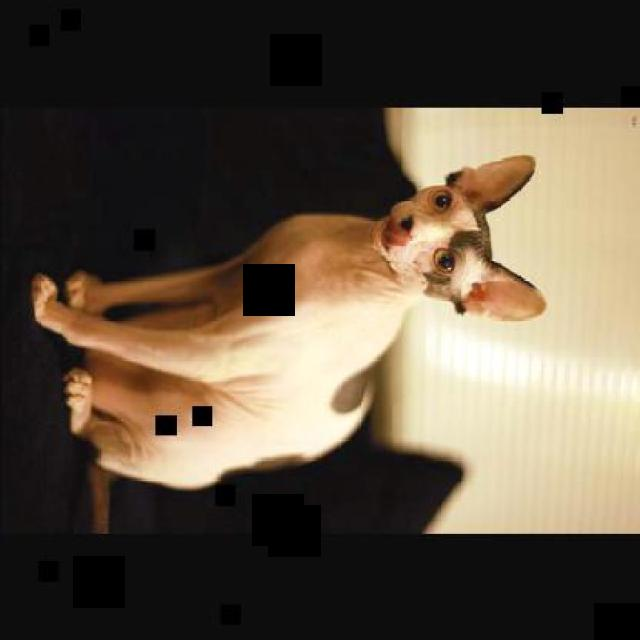unauthorized: (29, 152, 548, 491)
